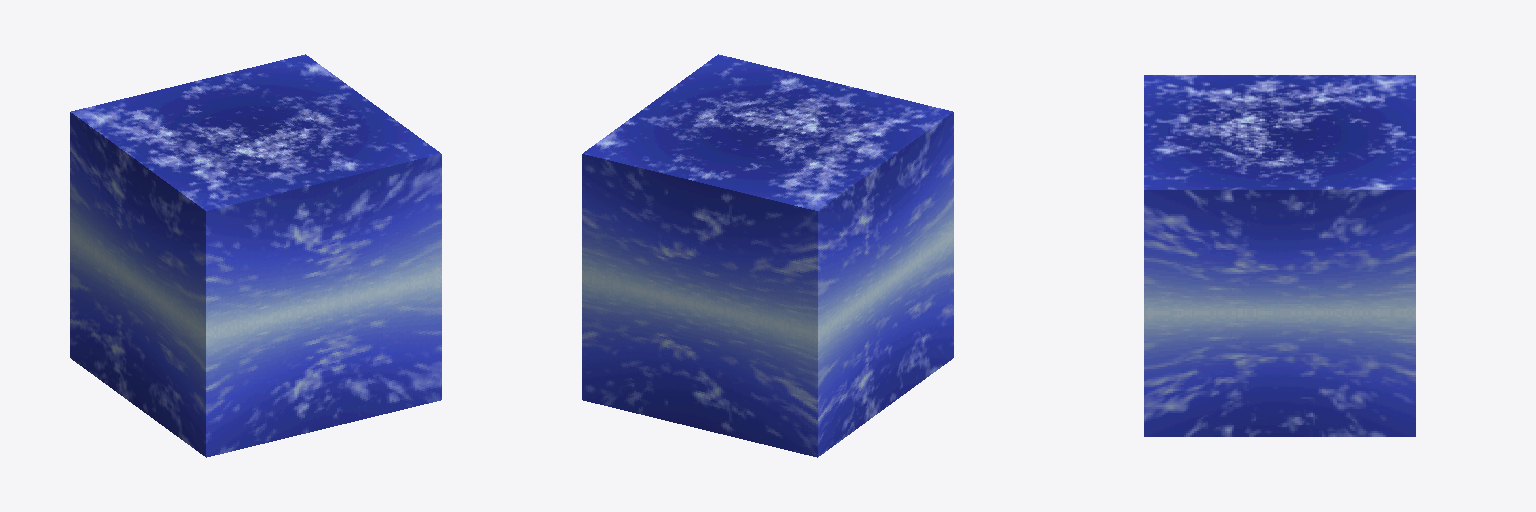
The picture shows the model from 3 angles: view 1: azimuth 30°, elevation 25°; view 2: azimuth 150°, elevation 25°; view 3: azimuth 270°, elevation 25°; orthographic projection.
Visible parts, largest first — view 1: Mesh1 Model; view 2: Mesh1 Model; view 3: Mesh1 Model.
Part boxes in pixels (left/top/right/bottom): Mesh1 Model: left=70, top=54, right=441, bottom=457; Mesh1 Model: left=582, top=54, right=953, bottom=457; Mesh1 Model: left=1144, top=75, right=1415, bottom=436.
Size of the model in its own units: 128 by 128 by 128.
48 materials, 48 textured.